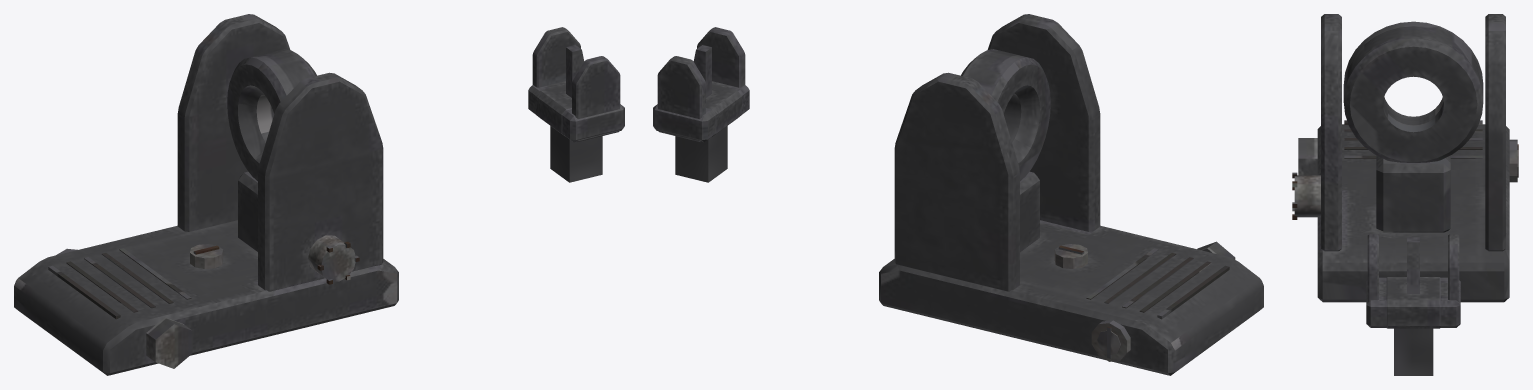
File: wicket_ring.glb
The picture shows the model from 3 angles, left to right: view 1: azimuth 30°, elevation 25°; view 2: azimuth 150°, elevation 25°; view 3: azimuth 270°, elevation 25°; orthographic projection. The views are drawn at different scales.
Parts seen in each view (by area): view 1: wicket_ring, PostBlade, PostStem; view 2: wicket_ring, PostBlade, PostStem; view 3: wicket_ring, PostBlade, PostStem.
Part boxes in pixels (<box>): wicket_ring: <box>14,14,398,375</box>; PostBlade: <box>528,27,624,142</box>; PostStem: <box>550,126,602,182</box>; wicket_ring: <box>879,14,1263,375</box>; PostBlade: <box>653,27,749,142</box>; PostStem: <box>675,126,727,182</box>; wicket_ring: <box>1292,14,1518,302</box>; PostBlade: <box>1366,234,1460,328</box>; PostStem: <box>1394,295,1433,375</box>.
Bounding box in the file's own units: 0.0738 × 0.0312 × 0.026.
Materials: 1 (1 with a texture image).
